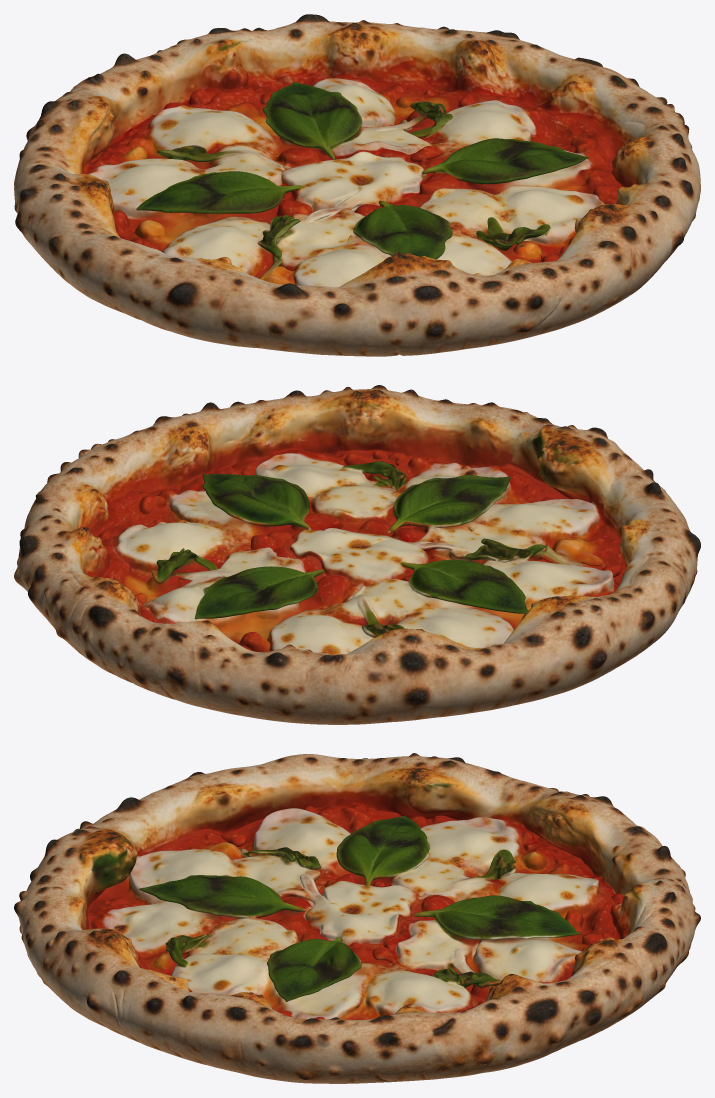
The model's file is pizza-color-final.glb.
3 renders of one model, top to bottom at view 1: azimuth 30°, elevation 25°; view 2: azimuth 150°, elevation 25°; view 3: azimuth 270°, elevation 25°, orthographic. The views are drawn at different scales.
Parts seen in each view (by area): view 1: tripo_node_8e01d207-6344-4f84-be6e-3adca2f9c374; view 2: tripo_node_8e01d207-6344-4f84-be6e-3adca2f9c374; view 3: tripo_node_8e01d207-6344-4f84-be6e-3adca2f9c374.
Part boxes in pixels (x1,y1,x2,y2): tripo_node_8e01d207-6344-4f84-be6e-3adca2f9c374: (14,14,700,356); tripo_node_8e01d207-6344-4f84-be6e-3adca2f9c374: (14,385,700,724); tripo_node_8e01d207-6344-4f84-be6e-3adca2f9c374: (14,753,700,1083).
Bounding box in the file's own units: 0.9935 × 0.1681 × 1.
1 material, 1 textured.
